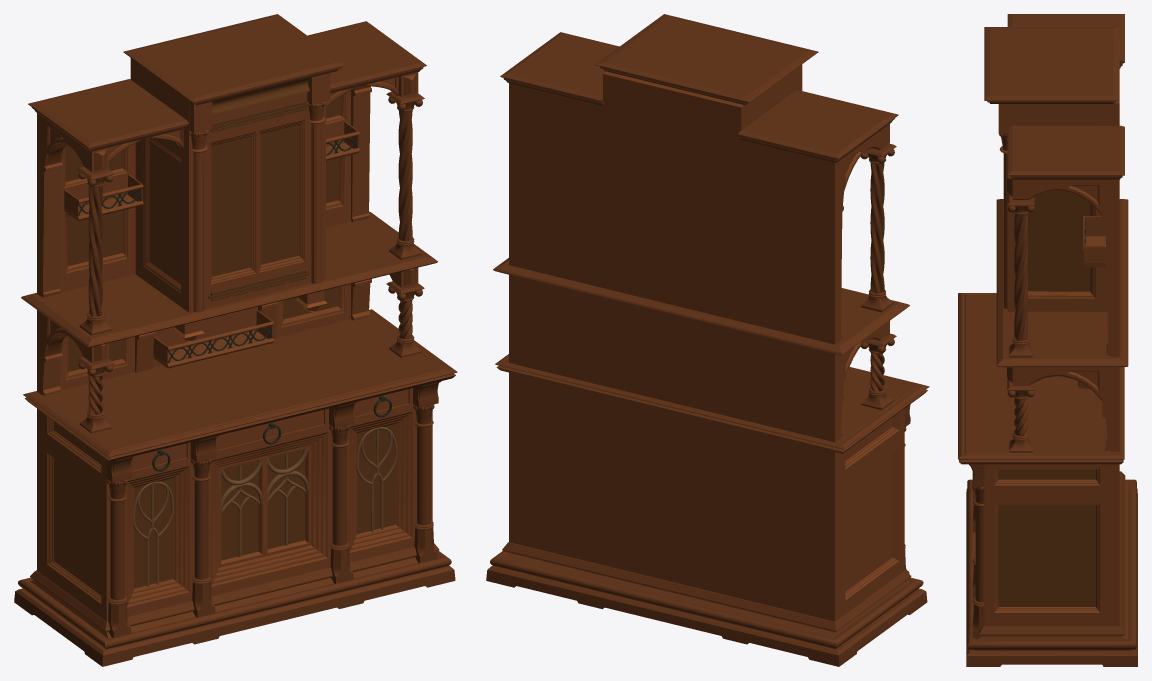
The model's file is cupboard5.glb.
3 views of the same model, side by side, from view 1: azimuth 30°, elevation 25°; view 2: azimuth 150°, elevation 25°; view 3: azimuth 270°, elevation 25° (orthographic). The views are drawn at different scales.
Parts seen in each view (by area): view 1: Cube, Cube.006, Cube.003, Cylinder.001, Cube.001, Cube.008, Cube.002, Cylinder.004, Cylinder.005, Cylinder.003, Cube.011, BezierCurve.004 (+6 smaller); view 2: Cube, Cube.003, Cube.002, Cube.008, Cube.006, Cube.001, Cylinder.005, Cylinder.003; view 3: Cube, Cube.006, Cube.003, Cube.008, Cube.001, Cube.002, Cylinder.005, Cylinder.001, Cylinder.003, BezierCurve.004, Cylinder.004.
Part boxes in pixels (box(x1,y1,x2,y2)): Cube: box(37, 58, 432, 621); Cube.006: box(23, 309, 457, 461); Cube.003: box(14, 543, 455, 666); Cylinder.001: box(106, 381, 441, 637); Cube.001: box(21, 211, 437, 347); Cube.008: box(123, 14, 346, 105); Cube.002: box(28, 21, 426, 151); Cylinder.004: box(187, 73, 330, 312); Cylinder.005: box(77, 92, 424, 335); Cylinder.003: box(77, 281, 424, 433); Cube.011: box(153, 310, 274, 368); BezierCurve.004: box(64, 121, 359, 220); Cube: box(509, 67, 904, 621); Cube.003: box(486, 542, 927, 666); Cube.002: box(500, 32, 898, 162); Cube.008: box(595, 14, 818, 105); Cube.006: box(495, 354, 929, 453); Cube.001: box(493, 258, 909, 355); Cylinder.005: box(860, 143, 896, 312); Cylinder.003: box(861, 333, 896, 409); Cube: box(984, 37, 1119, 626); Cube.006: box(958, 293, 1124, 464); Cube.003: box(966, 471, 1137, 666); Cube.008: box(984, 27, 1118, 103); Cube.001: box(996, 199, 1128, 367); Cube.002: box(1007, 14, 1124, 179); Cylinder.005: box(1007, 193, 1034, 357); Cylinder.001: box(969, 464, 984, 638); Cylinder.003: box(1007, 378, 1034, 452); BezierCurve.004: box(1081, 216, 1106, 267); Cylinder.004: box(998, 104, 1007, 309).
Size of the model in its own units: 483 by 700 by 219.
